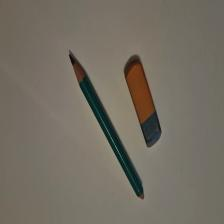eraser: (125, 62, 163, 149)
pencil: (70, 56, 145, 202)
